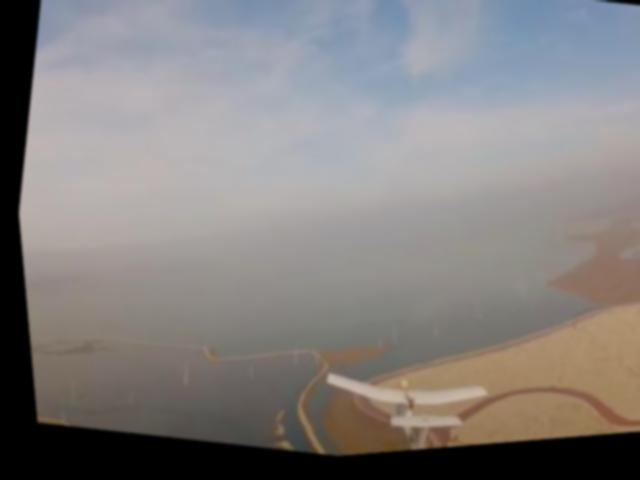uav: (297, 349, 493, 463)
